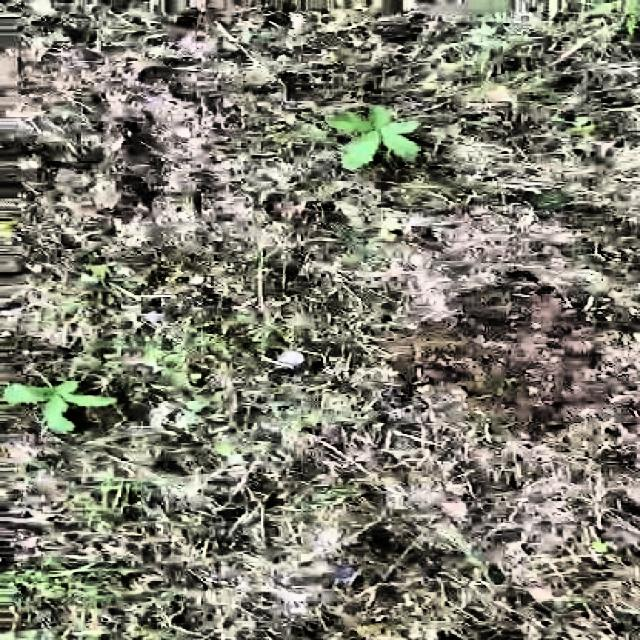Weeds: (4, 372, 118, 437), (330, 105, 425, 169)
